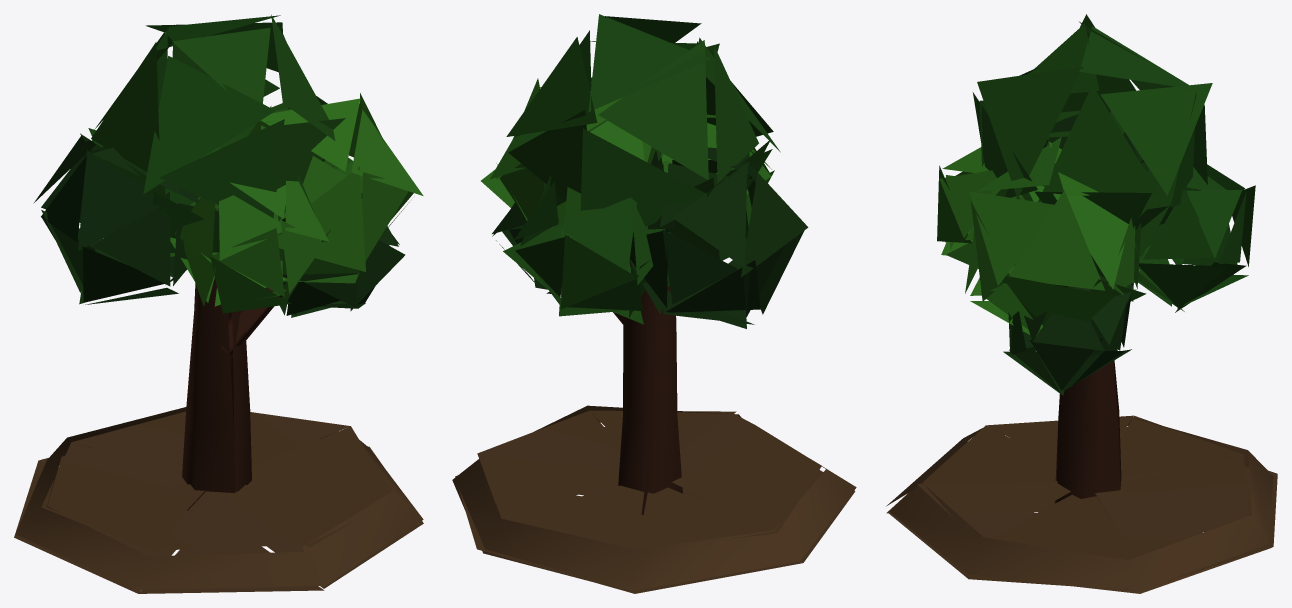
File: low-poly-tree.obj
3 views of the same model, side by side, from view 1: azimuth 30°, elevation 25°; view 2: azimuth 150°, elevation 25°; view 3: azimuth 270°, elevation 25° (orthographic). The views are drawn at different scales.
Visible parts, largest first — view 1: ground_mound, foliage_top, foliage_west, foliage_east, foliage_south, trunk, foliage_branch, branch; view 2: ground_mound, foliage_top, foliage_west, foliage_north, trunk, foliage_east, foliage_branch, foliage_south; view 3: ground_mound, foliage_top, foliage_east, foliage_north, foliage_branch, trunk, foliage_south, foliage_west.
Boxes of the visible parts, x1,y1,x2,y2 form: ground_mound: [14, 407, 423, 593]; foliage_top: [80, 14, 345, 256]; foliage_west: [33, 136, 219, 304]; foliage_east: [248, 93, 423, 287]; foliage_south: [170, 173, 330, 313]; trunk: [182, 277, 251, 510]; foliage_branch: [280, 193, 405, 317]; branch: [220, 287, 282, 358]; ground_mound: [452, 405, 856, 593]; foliage_top: [506, 14, 780, 258]; foliage_west: [629, 147, 808, 328]; foliage_north: [503, 175, 672, 324]; trunk: [618, 261, 682, 514]; foliage_east: [481, 78, 671, 229]; foliage_branch: [492, 182, 551, 293]; foliage_south: [647, 114, 774, 226]; ground_mound: [886, 415, 1277, 593]; foliage_top: [973, 14, 1212, 278]; foliage_east: [965, 137, 1146, 336]; foliage_north: [1134, 160, 1255, 312]; foliage_branch: [1003, 275, 1133, 395]; trunk: [1054, 355, 1121, 519]; foliage_south: [937, 147, 1055, 268]; foliage_west: [1043, 106, 1164, 223].
Bounding box in the file's own units: 1.96 × 2.55 × 1.93.
